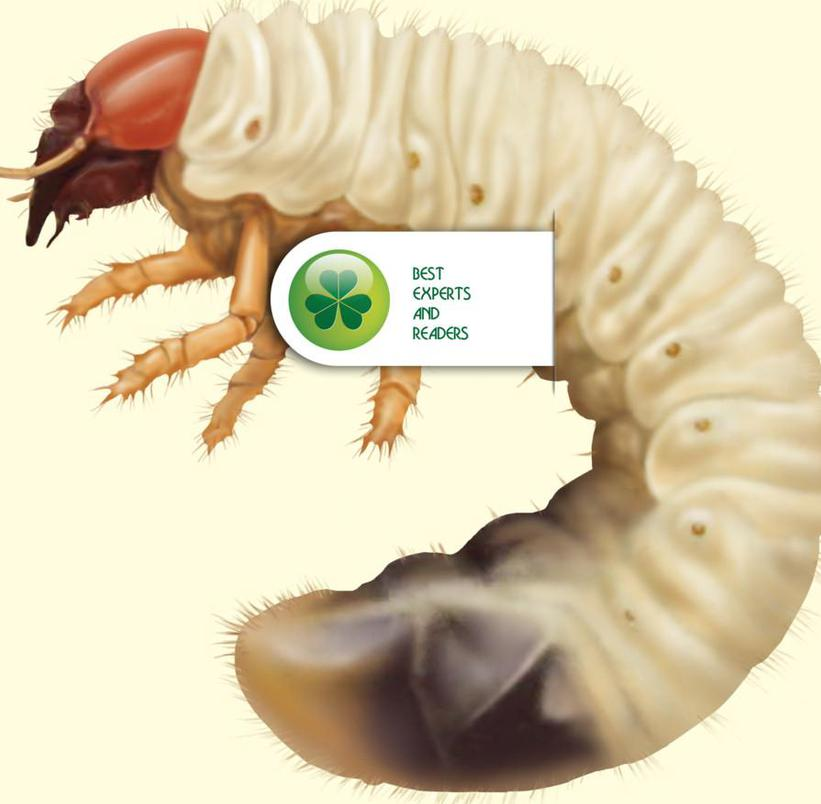grub: (16, 4, 815, 803)
